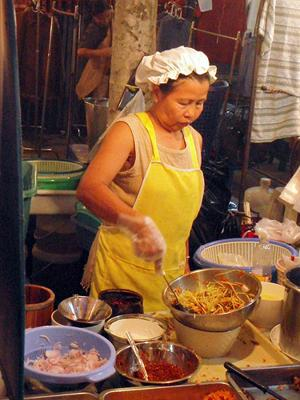person: (78, 46, 214, 314)
